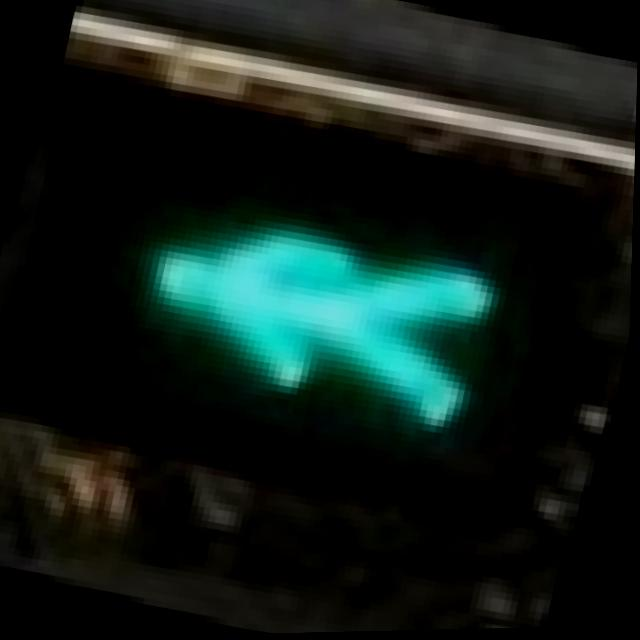green_light: (54, 108, 578, 548)
